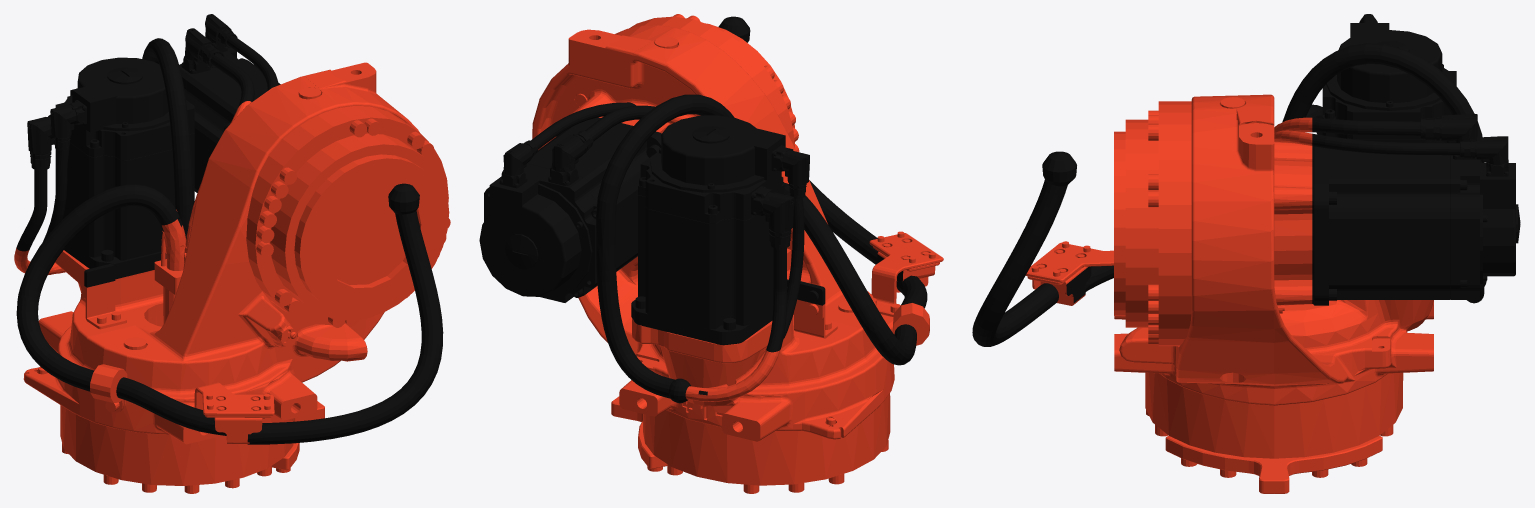
3 renders of one model, left to right at view 1: azimuth 30°, elevation 25°; view 2: azimuth 150°, elevation 25°; view 3: azimuth 270°, elevation 25°, orthographic. The views are drawn at different scales.
Parts seen in each view (by area): view 1: link_1; view 2: link_1; view 3: link_1.
Part boxes in pixels (bbox=[...]): link_1: bbox=[14, 14, 450, 493]; link_1: bbox=[479, 14, 943, 493]; link_1: bbox=[972, 14, 1520, 493].
Bounding box in the file's own units: 0.4493 × 0.5316 × 0.4308.
